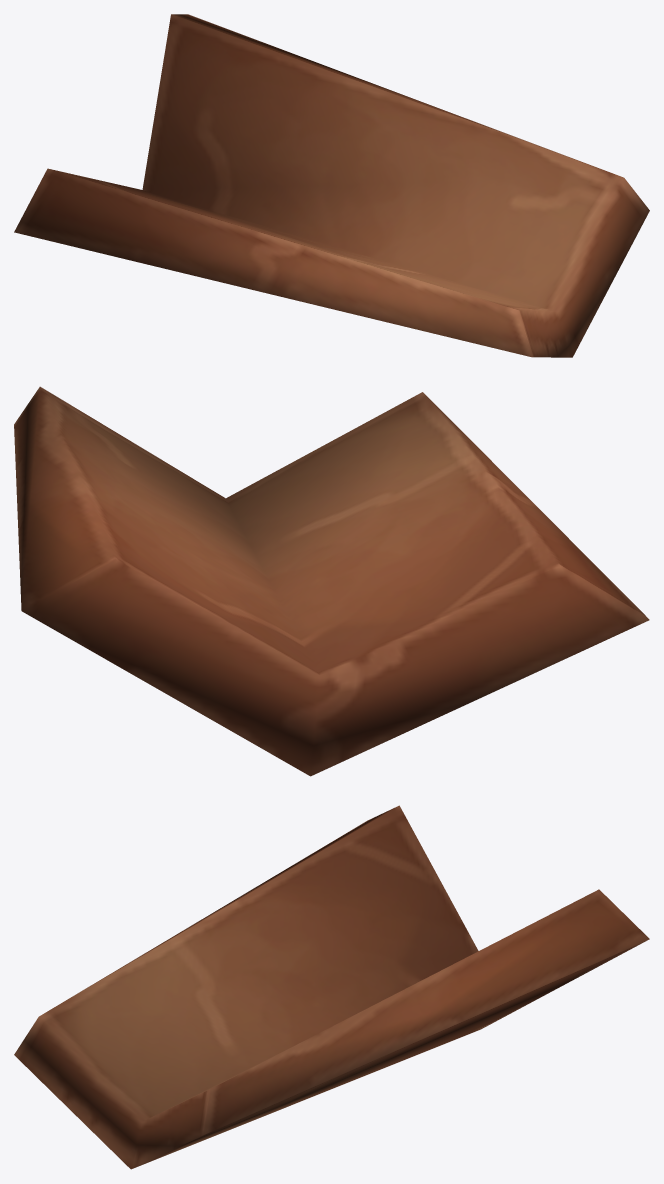
Rendered from et_ruins_02_sm.FBX.
3 views of the same model, one above another, from view 1: azimuth 30°, elevation 25°; view 2: azimuth 150°, elevation 25°; view 3: azimuth 270°, elevation 25° (orthographic). The views are drawn at different scales.
Parts seen in each view (by area): view 1: et_ruins_02_sm; view 2: et_ruins_02_sm; view 3: et_ruins_02_sm.
Boxes of the visible parts, box(x1,y1,x2,y2) form: et_ruins_02_sm: box(14, 14, 649, 357); et_ruins_02_sm: box(14, 386, 649, 776); et_ruins_02_sm: box(14, 805, 649, 1169).
Size of the model in its own units: 64.01 by 65.26 by 22.97.
